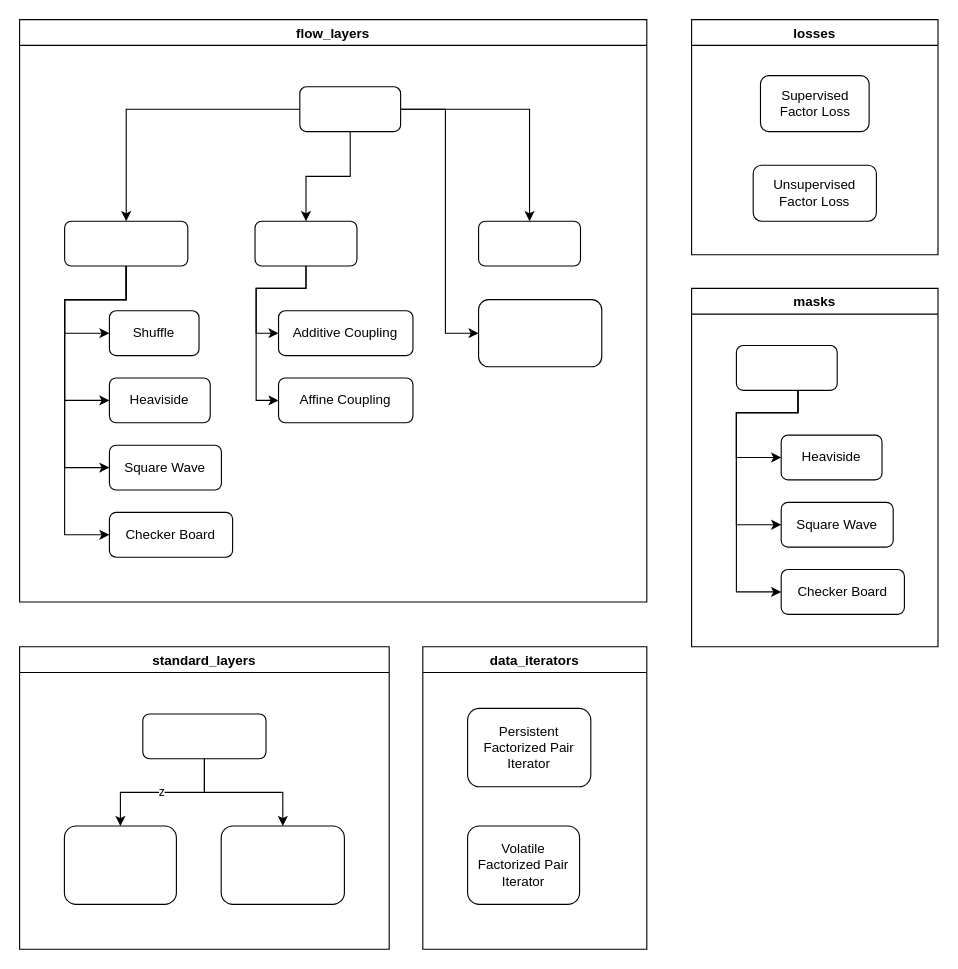
Image size: 958x969. Some labels were removed from this diagram. The shapes that lost their labels are listed below. From the top down, each one's centre as x and y in pixels, then its label:
At (x=350, y=109): "Flow Layer".
At (x=126, y=243): "Permutation".
At (x=305, y=243): "Coupling".
At (x=528, y=243): "Reflection".
At (x=539, y=332): "Activation Normalization".
At (x=786, y=367): "Mask".
At (x=204, y=736): "Standard Layer".
At (x=119, y=864): "Basic Fully Connected Network".
At (x=282, y=864): "Channel-wise Convolution Two Axes".
